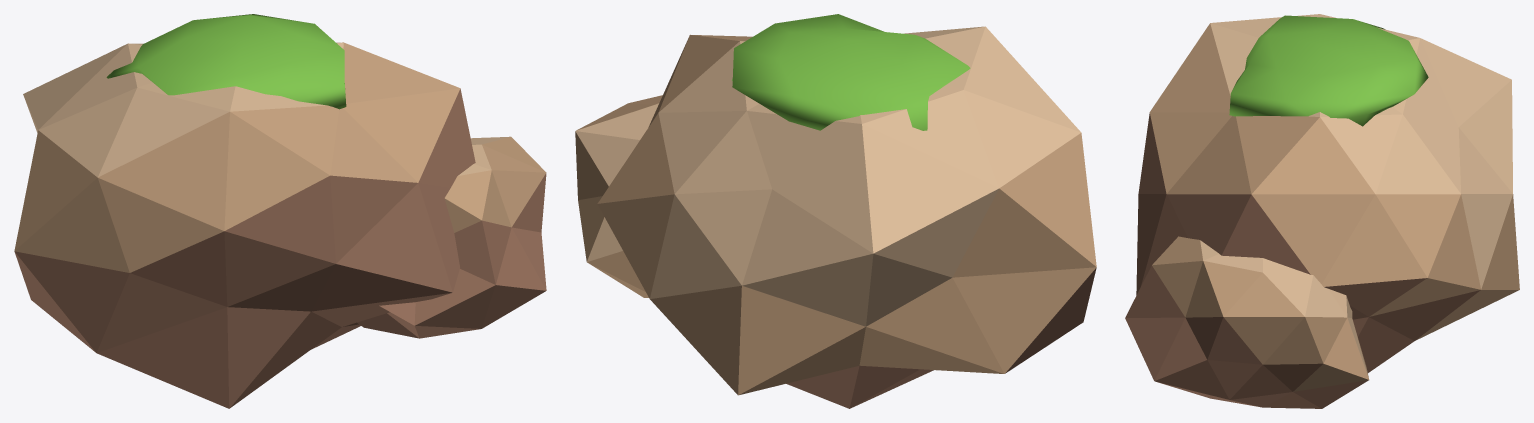
File: rock_small.obj
The picture shows the model from 3 angles, left to right: view 1: azimuth 30°, elevation 25°; view 2: azimuth 150°, elevation 25°; view 3: azimuth 270°, elevation 25°; orthographic projection. The views are drawn at different scales.
Parts seen in each view (by area): view 1: rock_small_rock_dark, rock_small_rock_mid, rock_small_rock_light, rock_small_moss; view 2: rock_small_rock_light, rock_small_rock_mid, rock_small_moss, rock_small_rock_dark; view 3: rock_small_rock_mid, rock_small_rock_dark, rock_small_rock_light, rock_small_moss.
Part boxes in pixels (box(x1,y1,x2,y2)): rock_small_rock_dark: box(14, 88, 546, 408); rock_small_rock_mid: box(14, 42, 546, 272); rock_small_rock_light: box(23, 42, 510, 177); rock_small_moss: box(106, 14, 346, 109); rock_small_rock_light: box(575, 26, 1081, 326); rock_small_rock_mid: box(575, 34, 1096, 395); rock_small_moss: box(732, 14, 970, 130); rock_small_rock_dark: box(786, 268, 1096, 408); rock_small_rock_mid: box(1149, 23, 1519, 391); rock_small_rock_dark: box(1125, 113, 1480, 408); rock_small_rock_light: box(1200, 14, 1512, 377); rock_small_moss: box(1229, 15, 1428, 126).
Bounding box in the file's own units: 0.9608 × 0.6383 × 0.6912.
